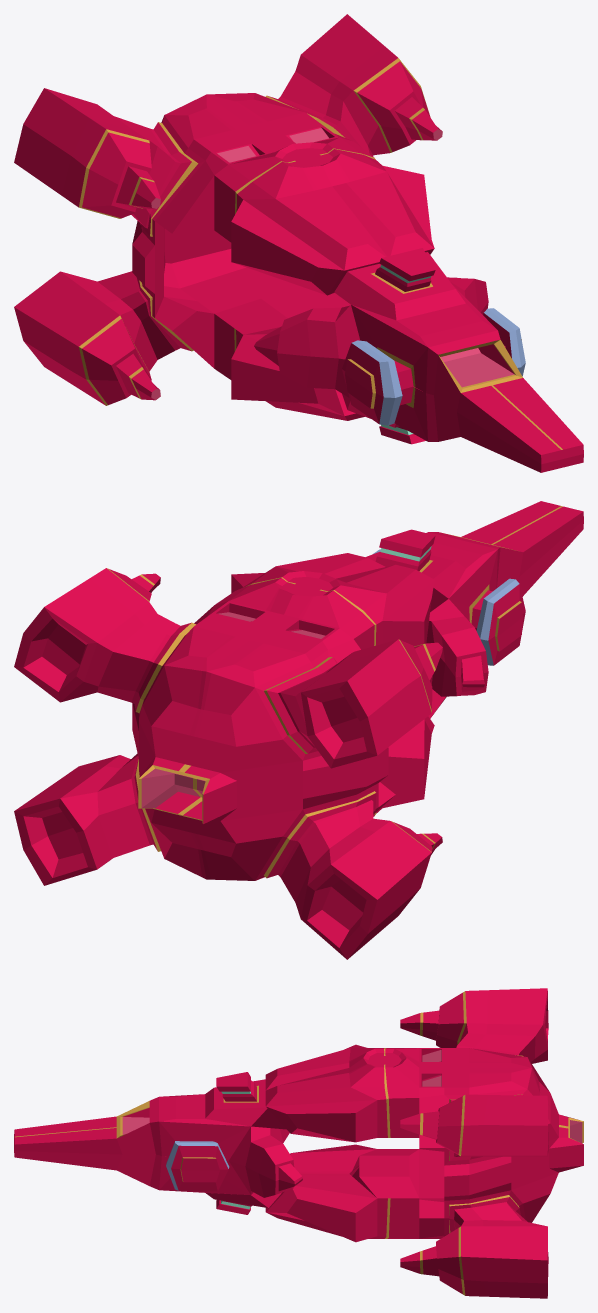
The model's file is Ship01001RS.fbx.
The picture shows the model from 3 angles, top to bottom: view 1: azimuth 30°, elevation 25°; view 2: azimuth 150°, elevation 25°; view 3: azimuth 270°, elevation 25°; orthographic projection. The views are drawn at different scales.
Visible parts, largest first — view 1: Ship; view 2: Ship; view 3: Ship.
Boxes of the visible parts, x1,y1,x2,y2 form: Ship: (14, 14, 583, 472); Ship: (14, 501, 583, 959); Ship: (14, 988, 583, 1298).
Size of the model in its own units: 366 by 268 by 683.
